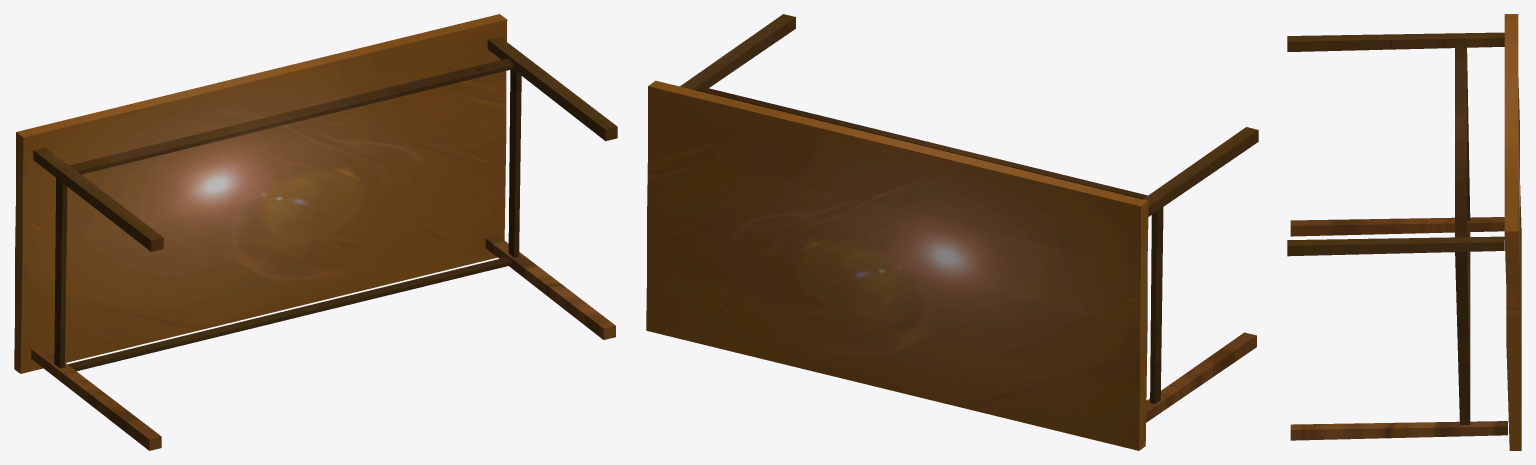
File: Table2.glb
The picture shows the model from 3 angles, left to right: view 1: azimuth 30°, elevation 25°; view 2: azimuth 150°, elevation 25°; view 3: azimuth 270°, elevation 25°; orthographic projection. The views are drawn at different scales.
Visible parts, largest first — view 1: Table2; view 2: Table2; view 3: Table2.
Boxes of the visible parts, bbox=[...] form: Table2: bbox=[14, 14, 617, 450]; Table2: bbox=[646, 14, 1258, 450]; Table2: bbox=[1287, 14, 1521, 450].
Size of the model in its own units: 237 by 112 by 108.
Materials: 1 (1 with a texture image).
